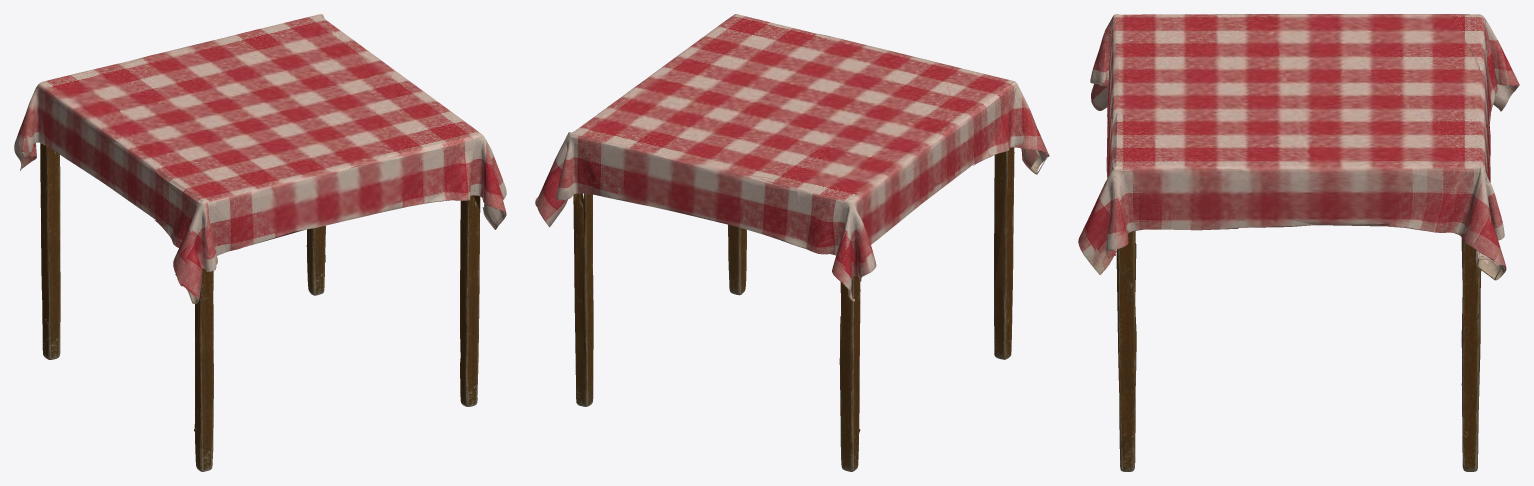
Rendered from tavolo.glb.
3 renders of one model, left to right at view 1: azimuth 30°, elevation 25°; view 2: azimuth 150°, elevation 25°; view 3: azimuth 270°, elevation 25°, orthographic. The views are drawn at different scales.
Visible parts, largest first — view 1: Mesh_0; view 2: Mesh_0; view 3: Mesh_0.
Boxes of the visible parts, left/top/right/bottom form: Mesh_0: left=14, top=14, right=506, bottom=471; Mesh_0: left=535, top=14, right=1049, bottom=471; Mesh_0: left=1078, top=14, right=1519, bottom=471.
Size of the model in its own units: 1.89 by 1.46 by 1.9.
Materials: 1 (1 with a texture image).
